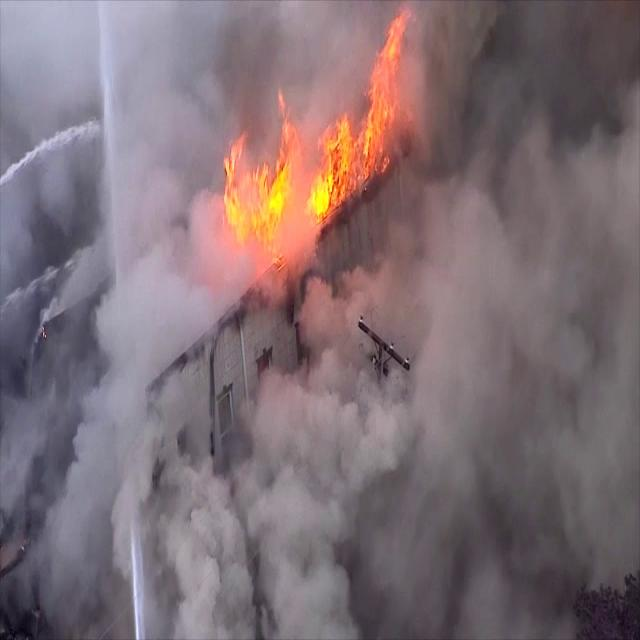fire: (235, 117, 382, 224)
smoke: (434, 11, 629, 588), (144, 366, 424, 606), (29, 6, 198, 352)
